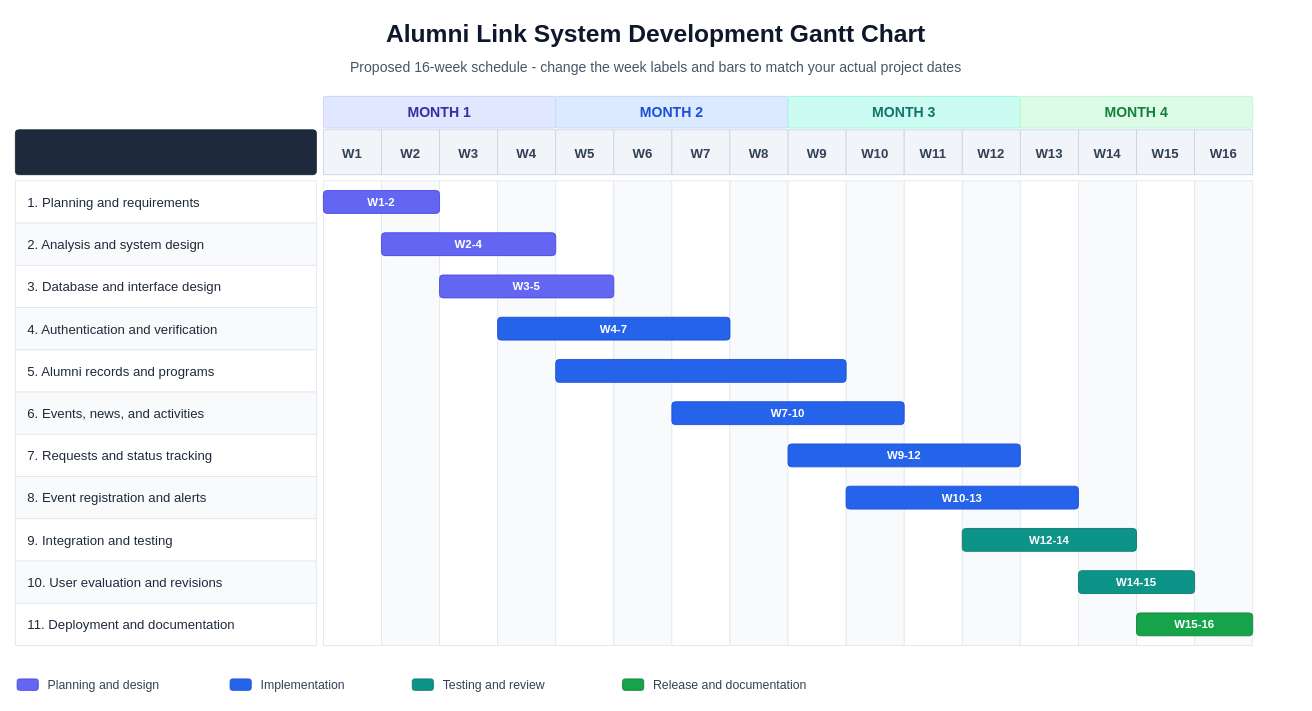
Image size: 1312x711. Some labels were removed from this diagram. Each missing label, with the centre of its shape:
PROJECT ACTIVITY: point (165, 152)
W5-9: point (700, 370)
